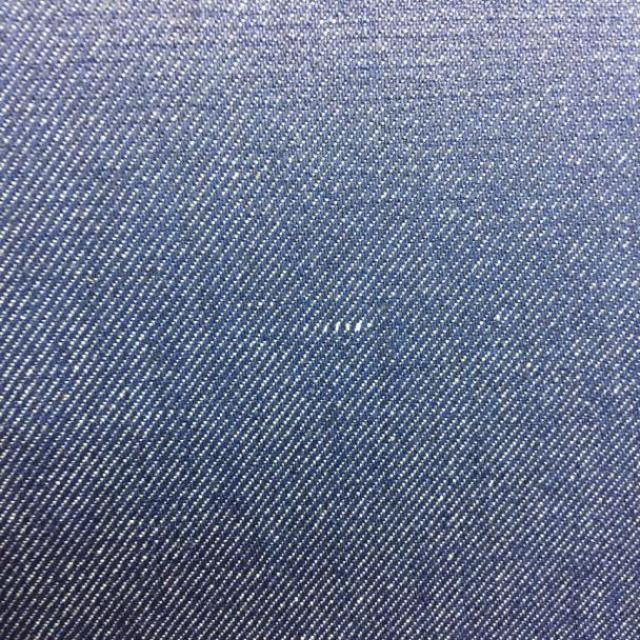Knot: (304, 319, 375, 337)
